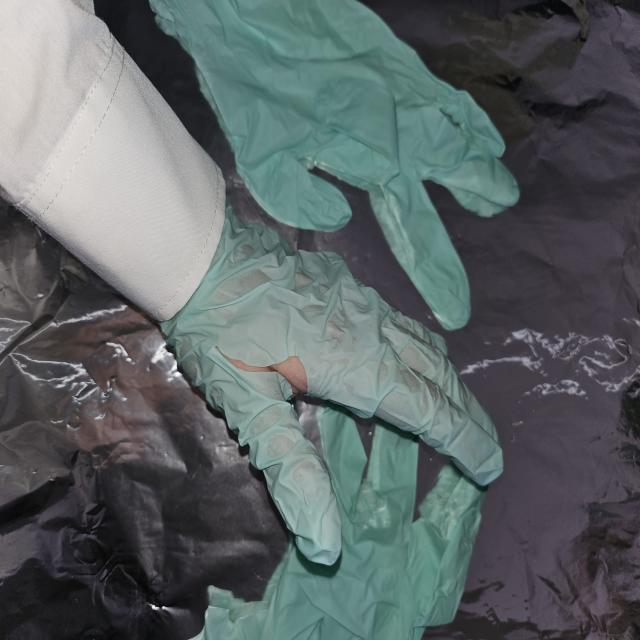gloves_damaged: (159, 197, 505, 567)
